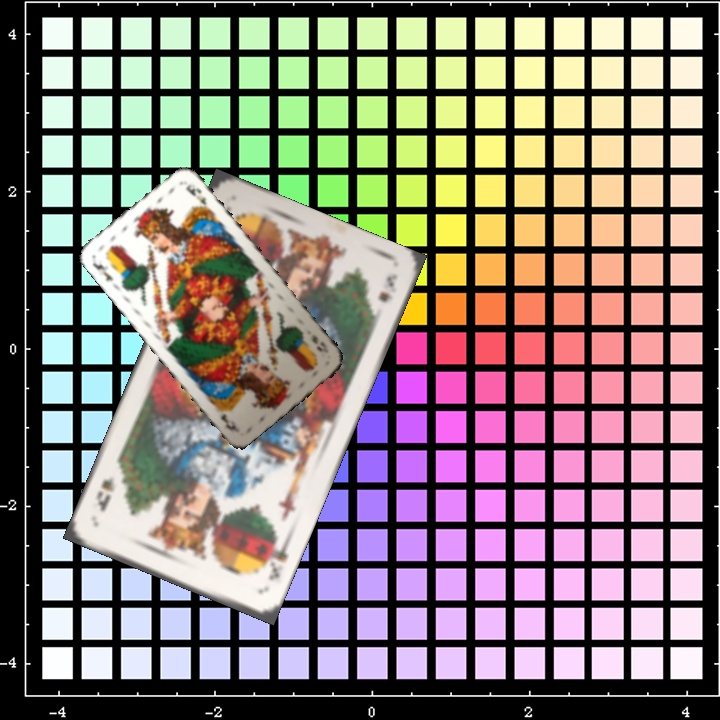EK: (88, 258, 116, 284), (307, 330, 331, 356)
SK: (259, 534, 290, 583)
